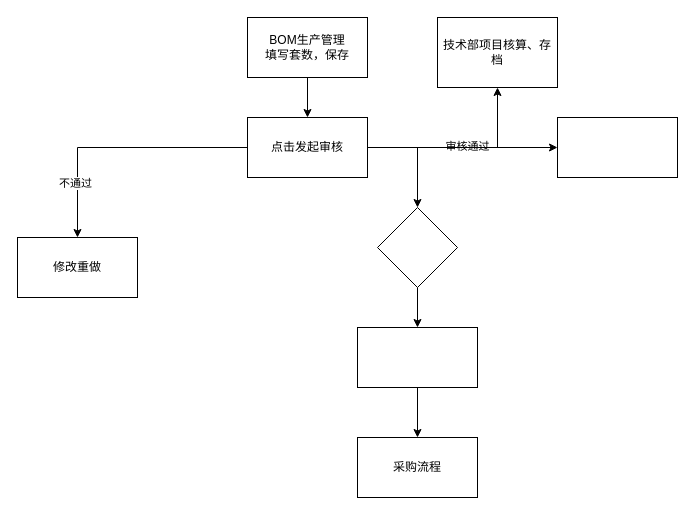
Some shapes in this 695 by 515 pixel diagram are drawn without their labels. Here are the shapes that lost their labels. From the top down, the box of each, then its label:
(556, 116, 678, 178): 生产部待选（已发布） status改为1
(376, 206, 458, 288): 库存是否足够
(356, 326, 478, 388): 发起采购单 level4 物料
